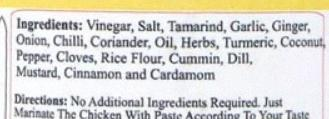ingredients: (12, 12, 326, 87)
